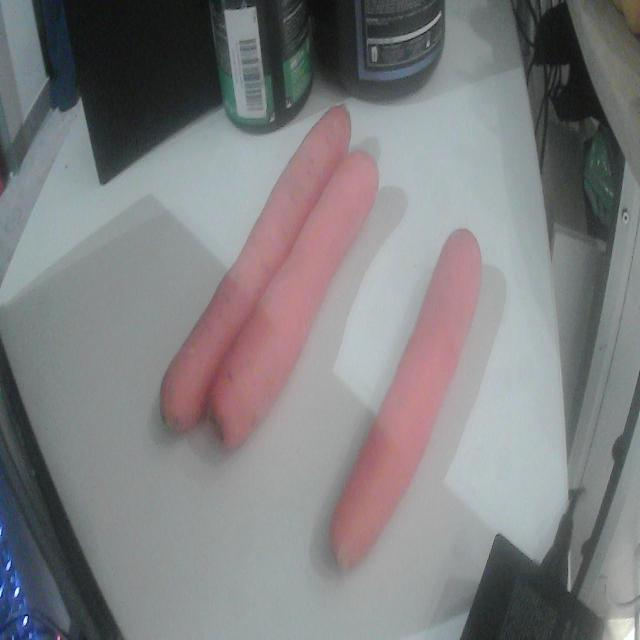Carrot: (161, 106, 378, 448), (330, 229, 482, 567)
